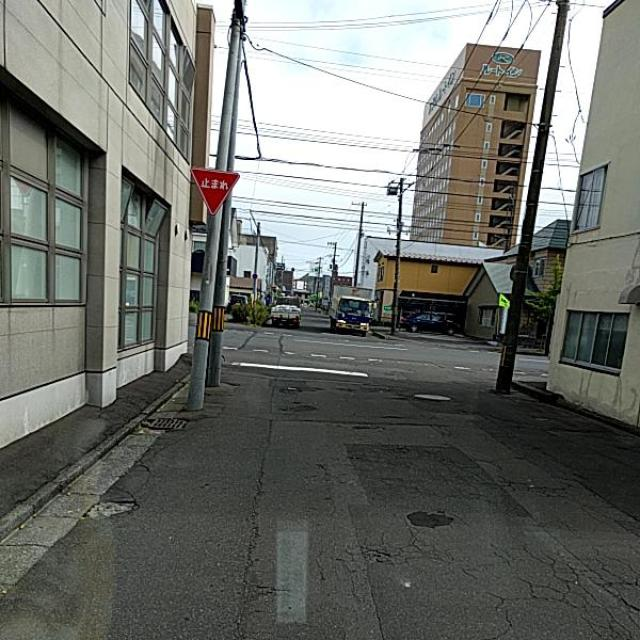Crack: (259, 379, 592, 640)
Pothole: (394, 486, 462, 542)
